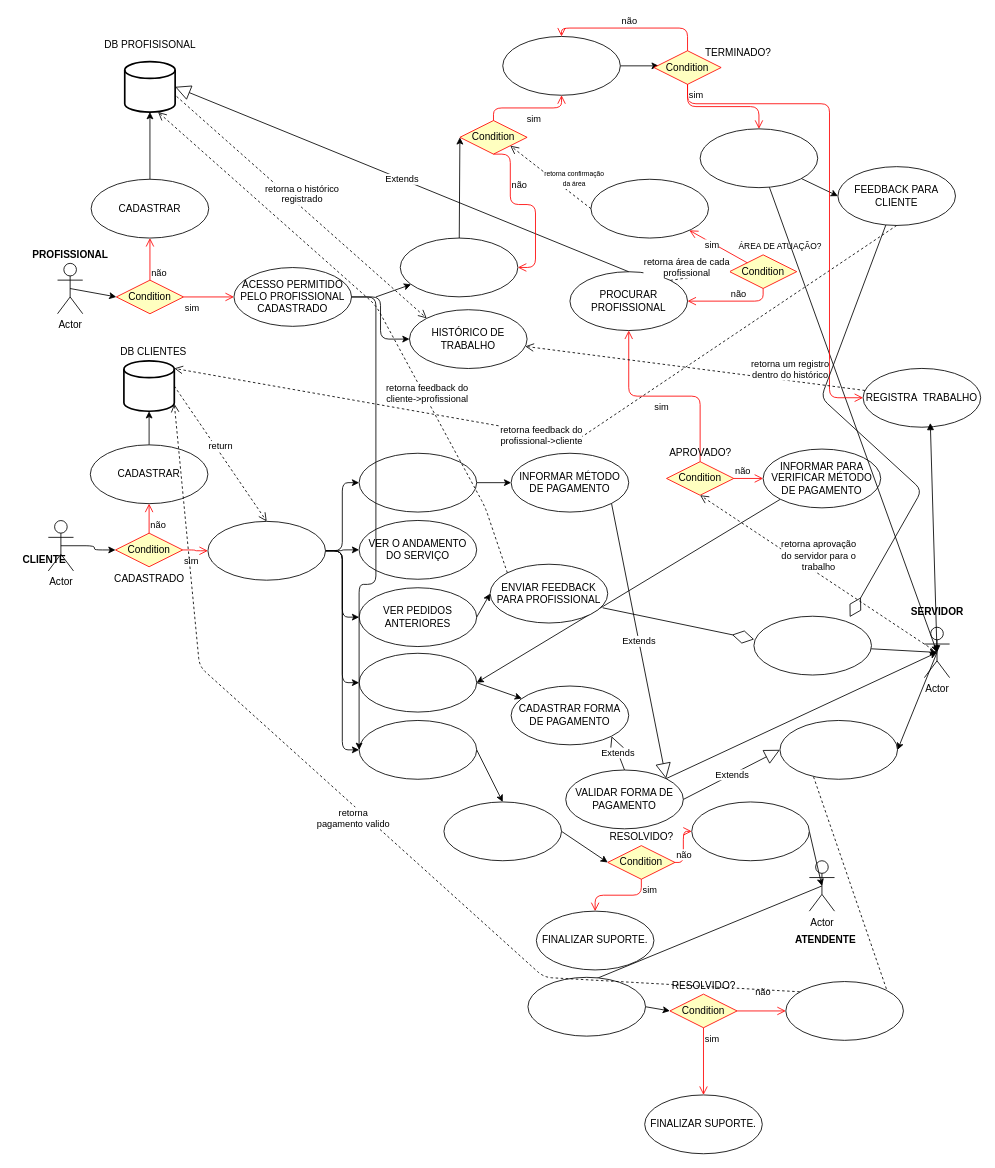
The diagram is 995 pixels wide and 1168 high, and some of its shapes have lost their labels. Each missing label, with the centre of its shape:
ACESSO PERMITIDO PELO CLIENTE CADASTRADO: the point at 266,550
AGUARDAR CONFIRMAÇÃO PROFISSIONAL: the point at 649,208
ENTRAR EM CONTATO COM ATENDIMENTO: the point at 750,831
ENVIAR FOTO/COMPROVANTE: the point at 758,158
ENVIAR PARA ANÁLISE: the point at 844,1010
FAZER O SERVIÇO: the point at 561,65
FORMAS DE PAGAMENTO: the point at 417,682
OPÇÕES DE SUPORTE ESCRTO: the point at 502,831
PROCURAR SERVIÇOS: the point at 458,267
RECEBER FEEDBACK: the point at 812,645
REGISTRAR E VALIDAR DADO DE PAGAMNTO: the point at 838,749
SOLICITAR SERVIÇO: the point at 417,482
SUPORTE: the point at 417,749
TENTAR IDENTIFICAR PROBLEMA/RESOLVER PROBLEMA: the point at 586,1006
